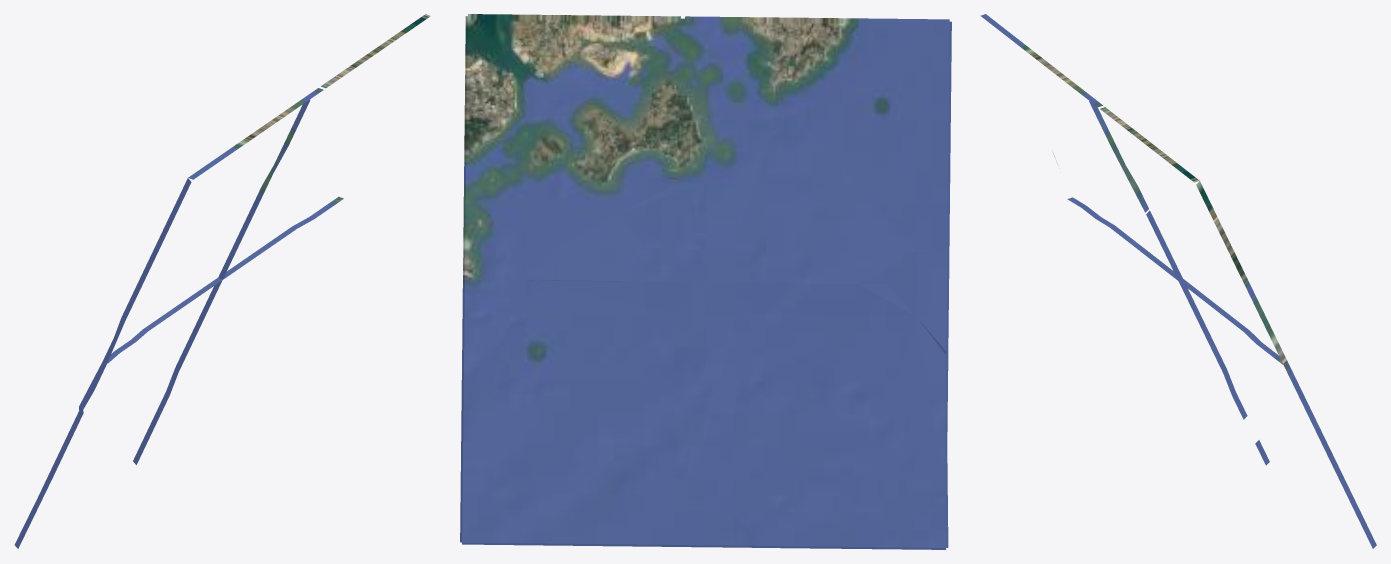
The picture shows the model from 3 angles, left to right: view 1: azimuth 30°, elevation 25°; view 2: azimuth 150°, elevation 25°; view 3: azimuth 270°, elevation 25°; orthographic projection. The views are drawn at different scales.
Size of the model in its own units: 79115 by 72122 by 63311.
Materials: 1 (1 with a texture image).
